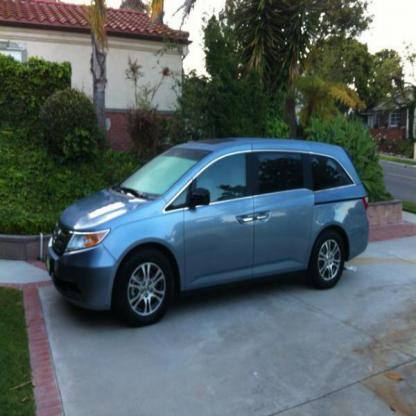Vehicle: (40, 129, 372, 338)
